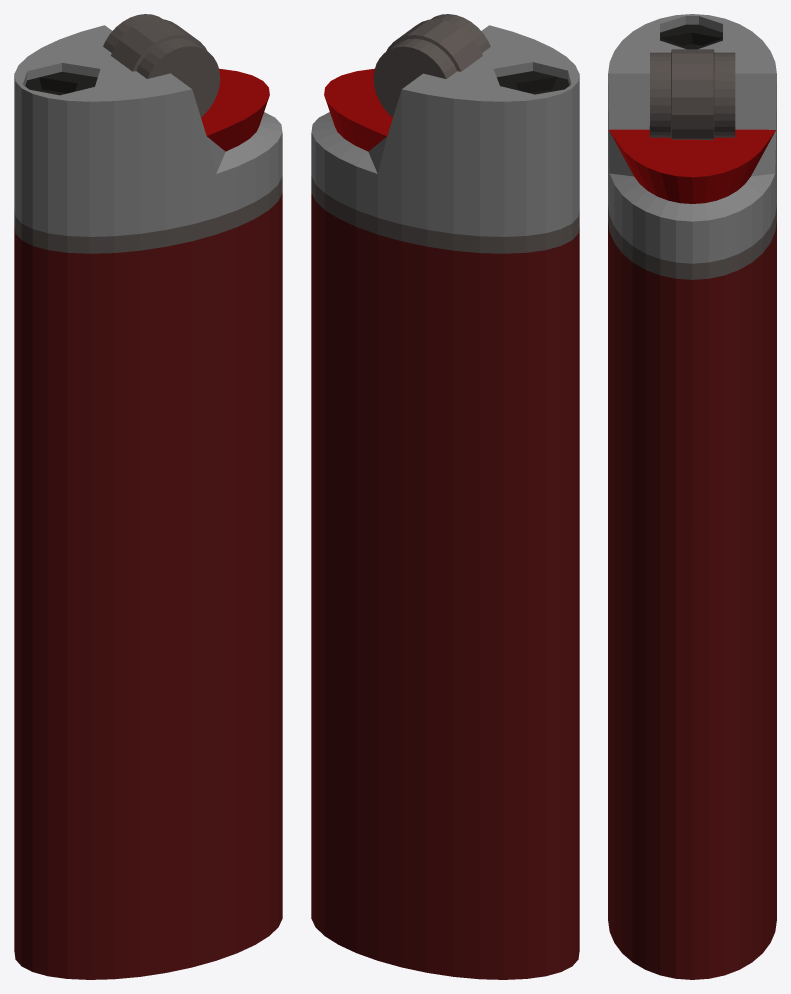
File: Lighter.fbx
3 renders of one model, left to right at view 1: azimuth 30°, elevation 25°; view 2: azimuth 150°, elevation 25°; view 3: azimuth 270°, elevation 25°, orthographic. The views are drawn at different scales.
Visible parts, largest first — view 1: Cylinder.003; view 2: Cylinder.003; view 3: Cylinder.003.
Boxes of the visible parts, x1,y1,x2,y2 form: Cylinder.003: [14, 14, 282, 979]; Cylinder.003: [311, 14, 579, 979]; Cylinder.003: [608, 14, 776, 979].
Size of the model in its own units: 26.46 by 90.1 by 15.81.
